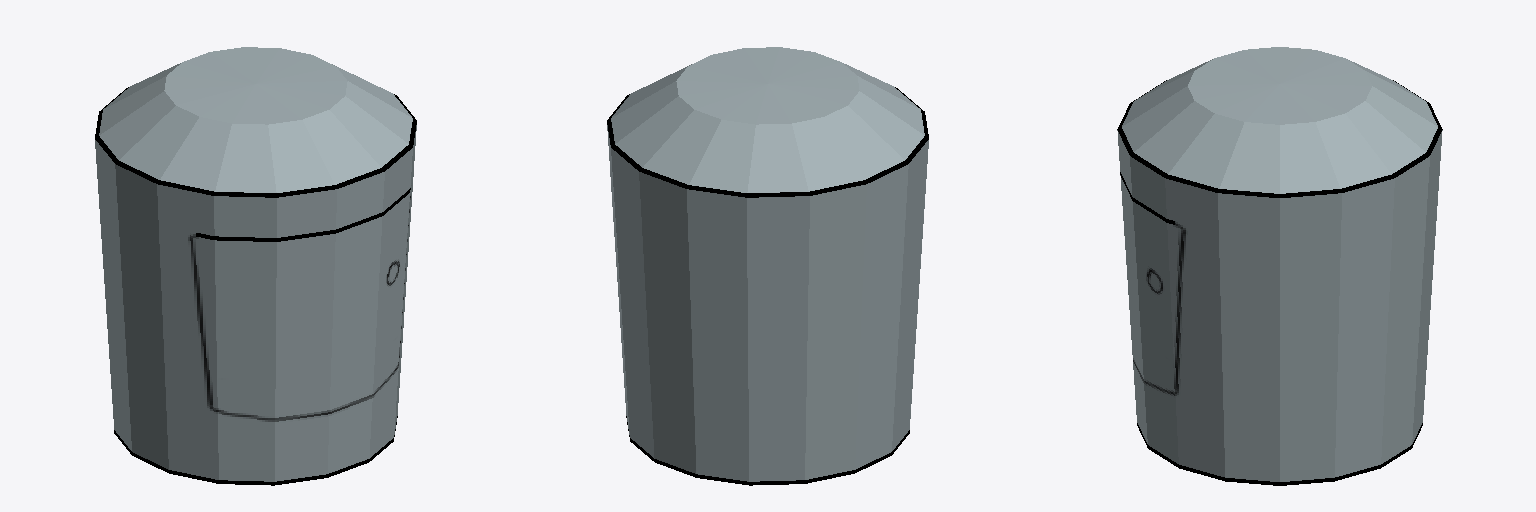
3 renders of one model, left to right at view 1: azimuth 30°, elevation 25°; view 2: azimuth 150°, elevation 25°; view 3: azimuth 270°, elevation 25°, orthographic.
Visible parts, largest first — view 1: Torzo; view 2: Torzo; view 3: Torzo.
Part boxes in pixels (bbox=[...]): Torzo: bbox=[95, 47, 416, 485]; Torzo: bbox=[607, 47, 928, 485]; Torzo: bbox=[1117, 47, 1442, 485].
Bounding box in the file's own units: 1.02 × 1.19 × 1.02.
Materials: 2 (1 with a texture image).